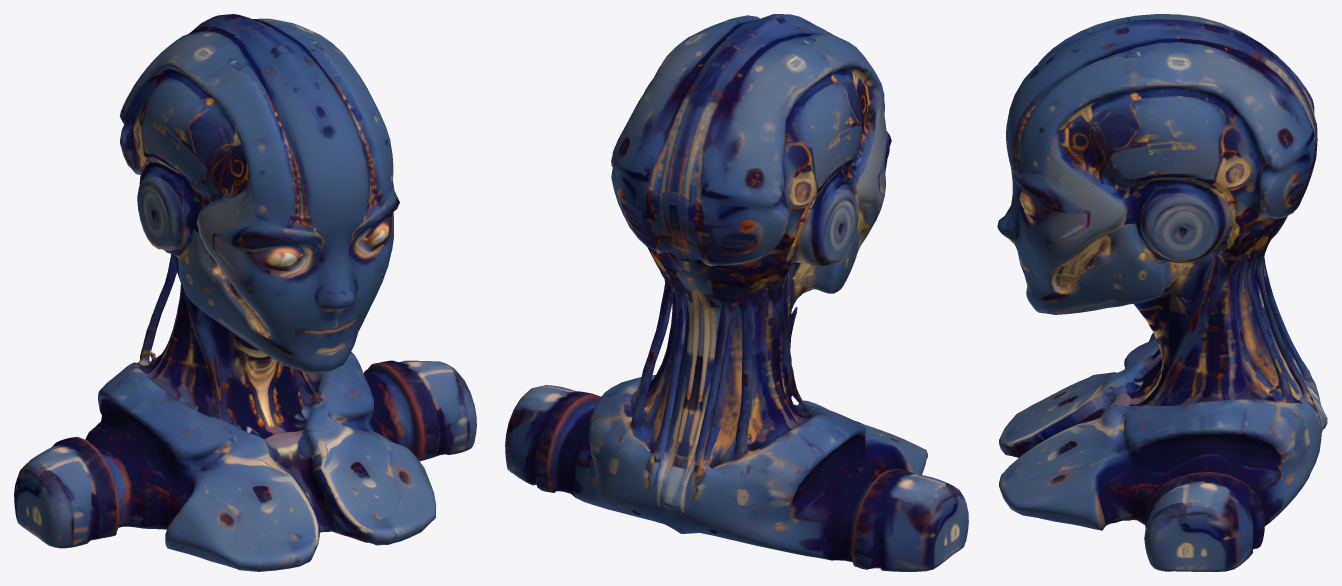
File: base_basic_pbr.glb
3 renders of one model, left to right at view 1: azimuth 30°, elevation 25°; view 2: azimuth 150°, elevation 25°; view 3: azimuth 270°, elevation 25°, orthographic. The views are drawn at different scales.
Visible parts, largest first — view 1: model; view 2: model; view 3: model.
Part boxes in pixels (box(x1,y1,x2,y2)): model: box(14, 14, 476, 571); model: box(505, 14, 968, 571); model: box(997, 14, 1327, 571).
Size of the model in its own units: 1.82 by 1.9 by 1.26.
Materials: 1 (1 with a texture image).
